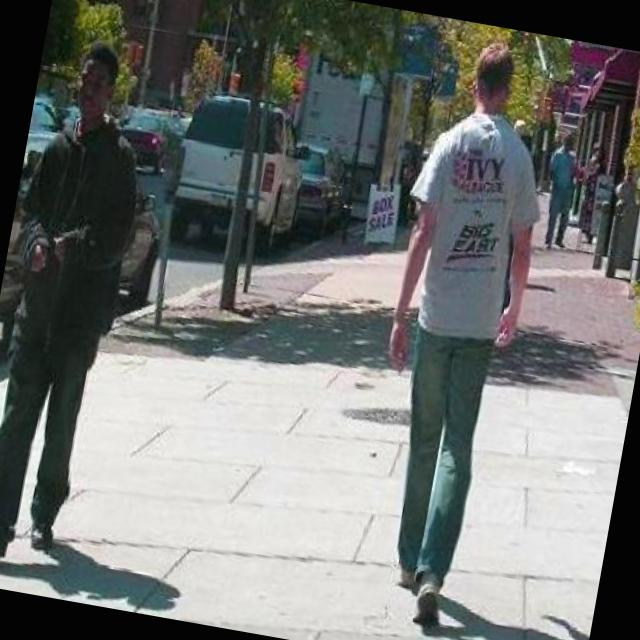Person: (338, 31, 576, 632), (0, 23, 172, 578)
